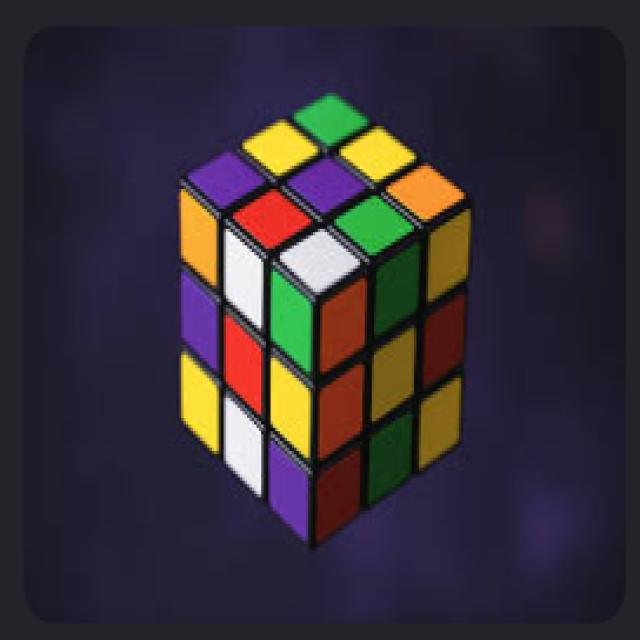Cubo-No-resuelto: (181, 96, 471, 541)
